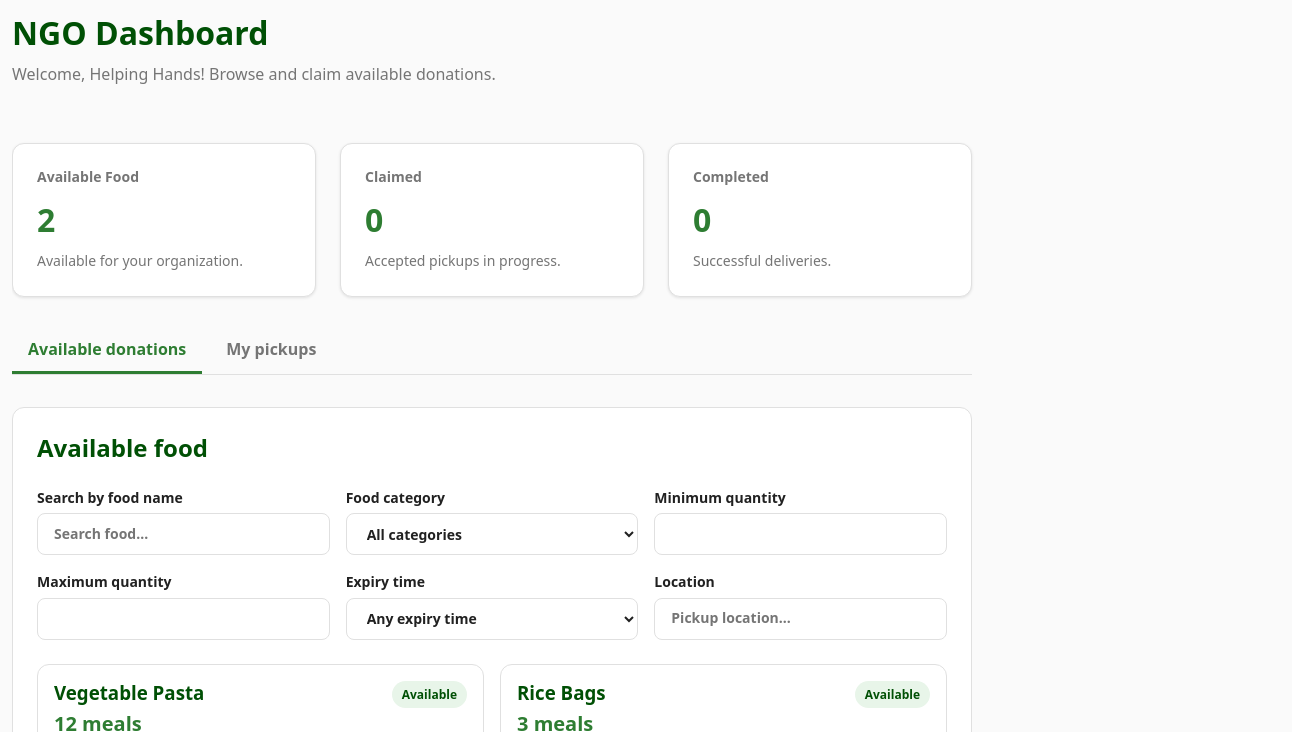
Test: NgoDashboard › filters by category, quantity and expiry time
Expected: the heading "Vegetable Pasta" is shown, [54,680,204,705]
Select "Raw" in the dropdown labelled "Food category" at (492, 534), box [346,513,638,555]
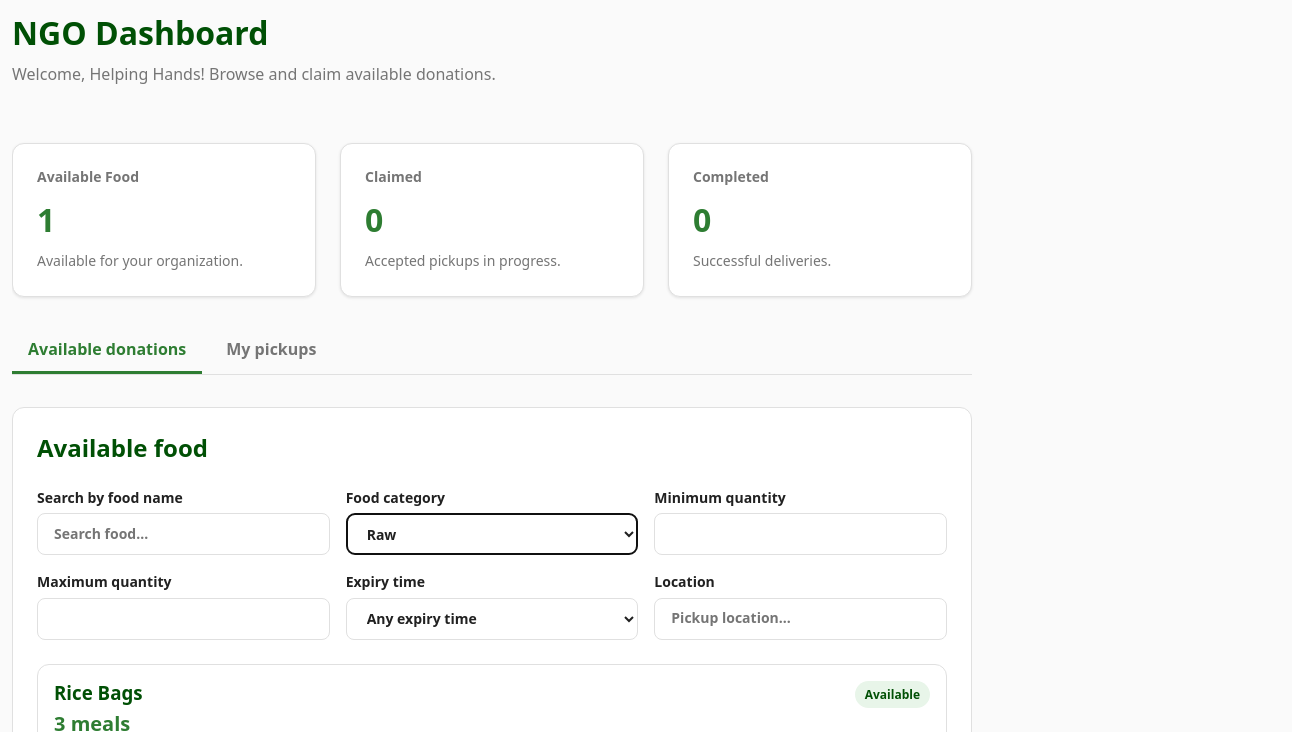
Expected: the heading "Rice Bags" is shown, [54,680,143,705]
Now the heading "Vegetable Pasta" is gone
Type "5" into the number field labelled "Minimum quantity".
click(801, 534); type("5")  # box [654,513,947,555]
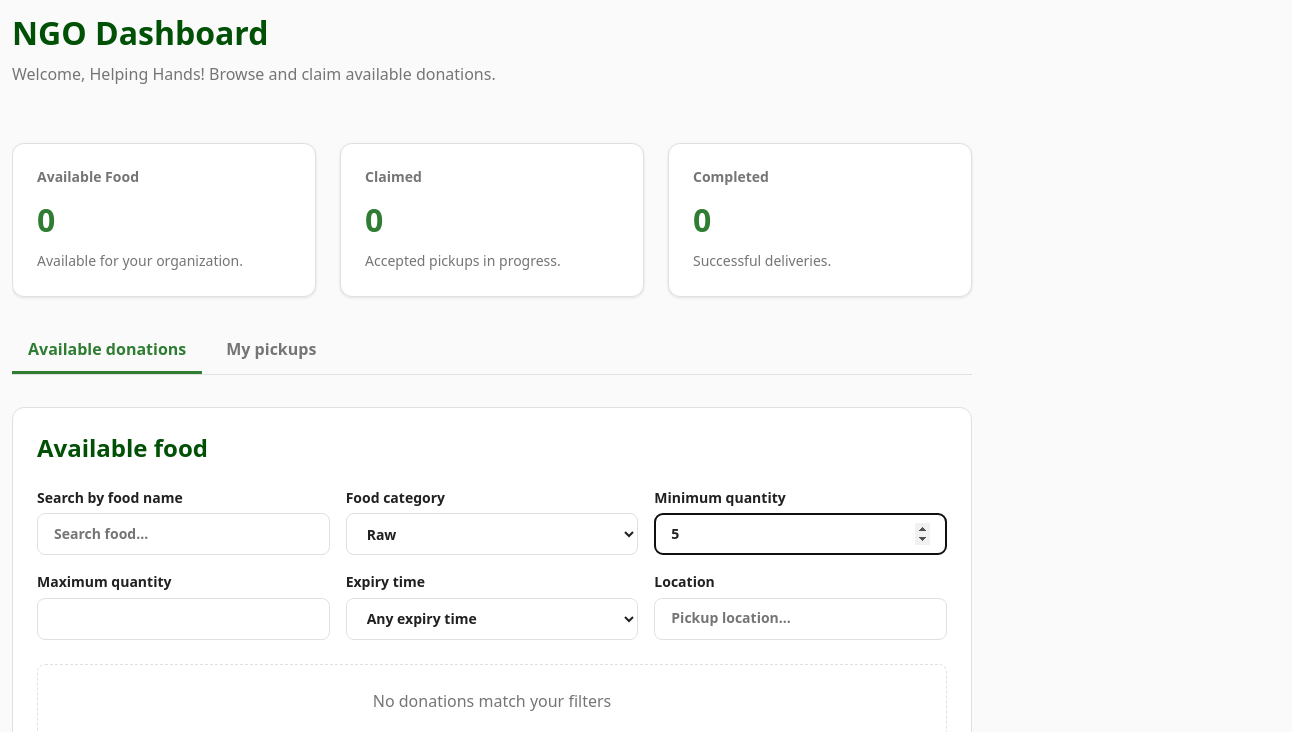
Now the text "No donations match your filters" is shown, box [373,690,611,712]
